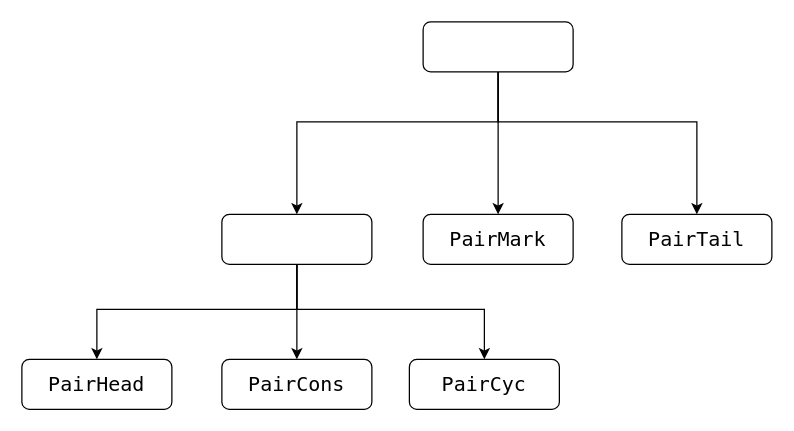
This 794x431 diagram has some shape labels left out. Each missing label, with the centre of its shape:
"Pair" goes at pixel 497 46.
"PairUse" goes at pixel 296 238.
